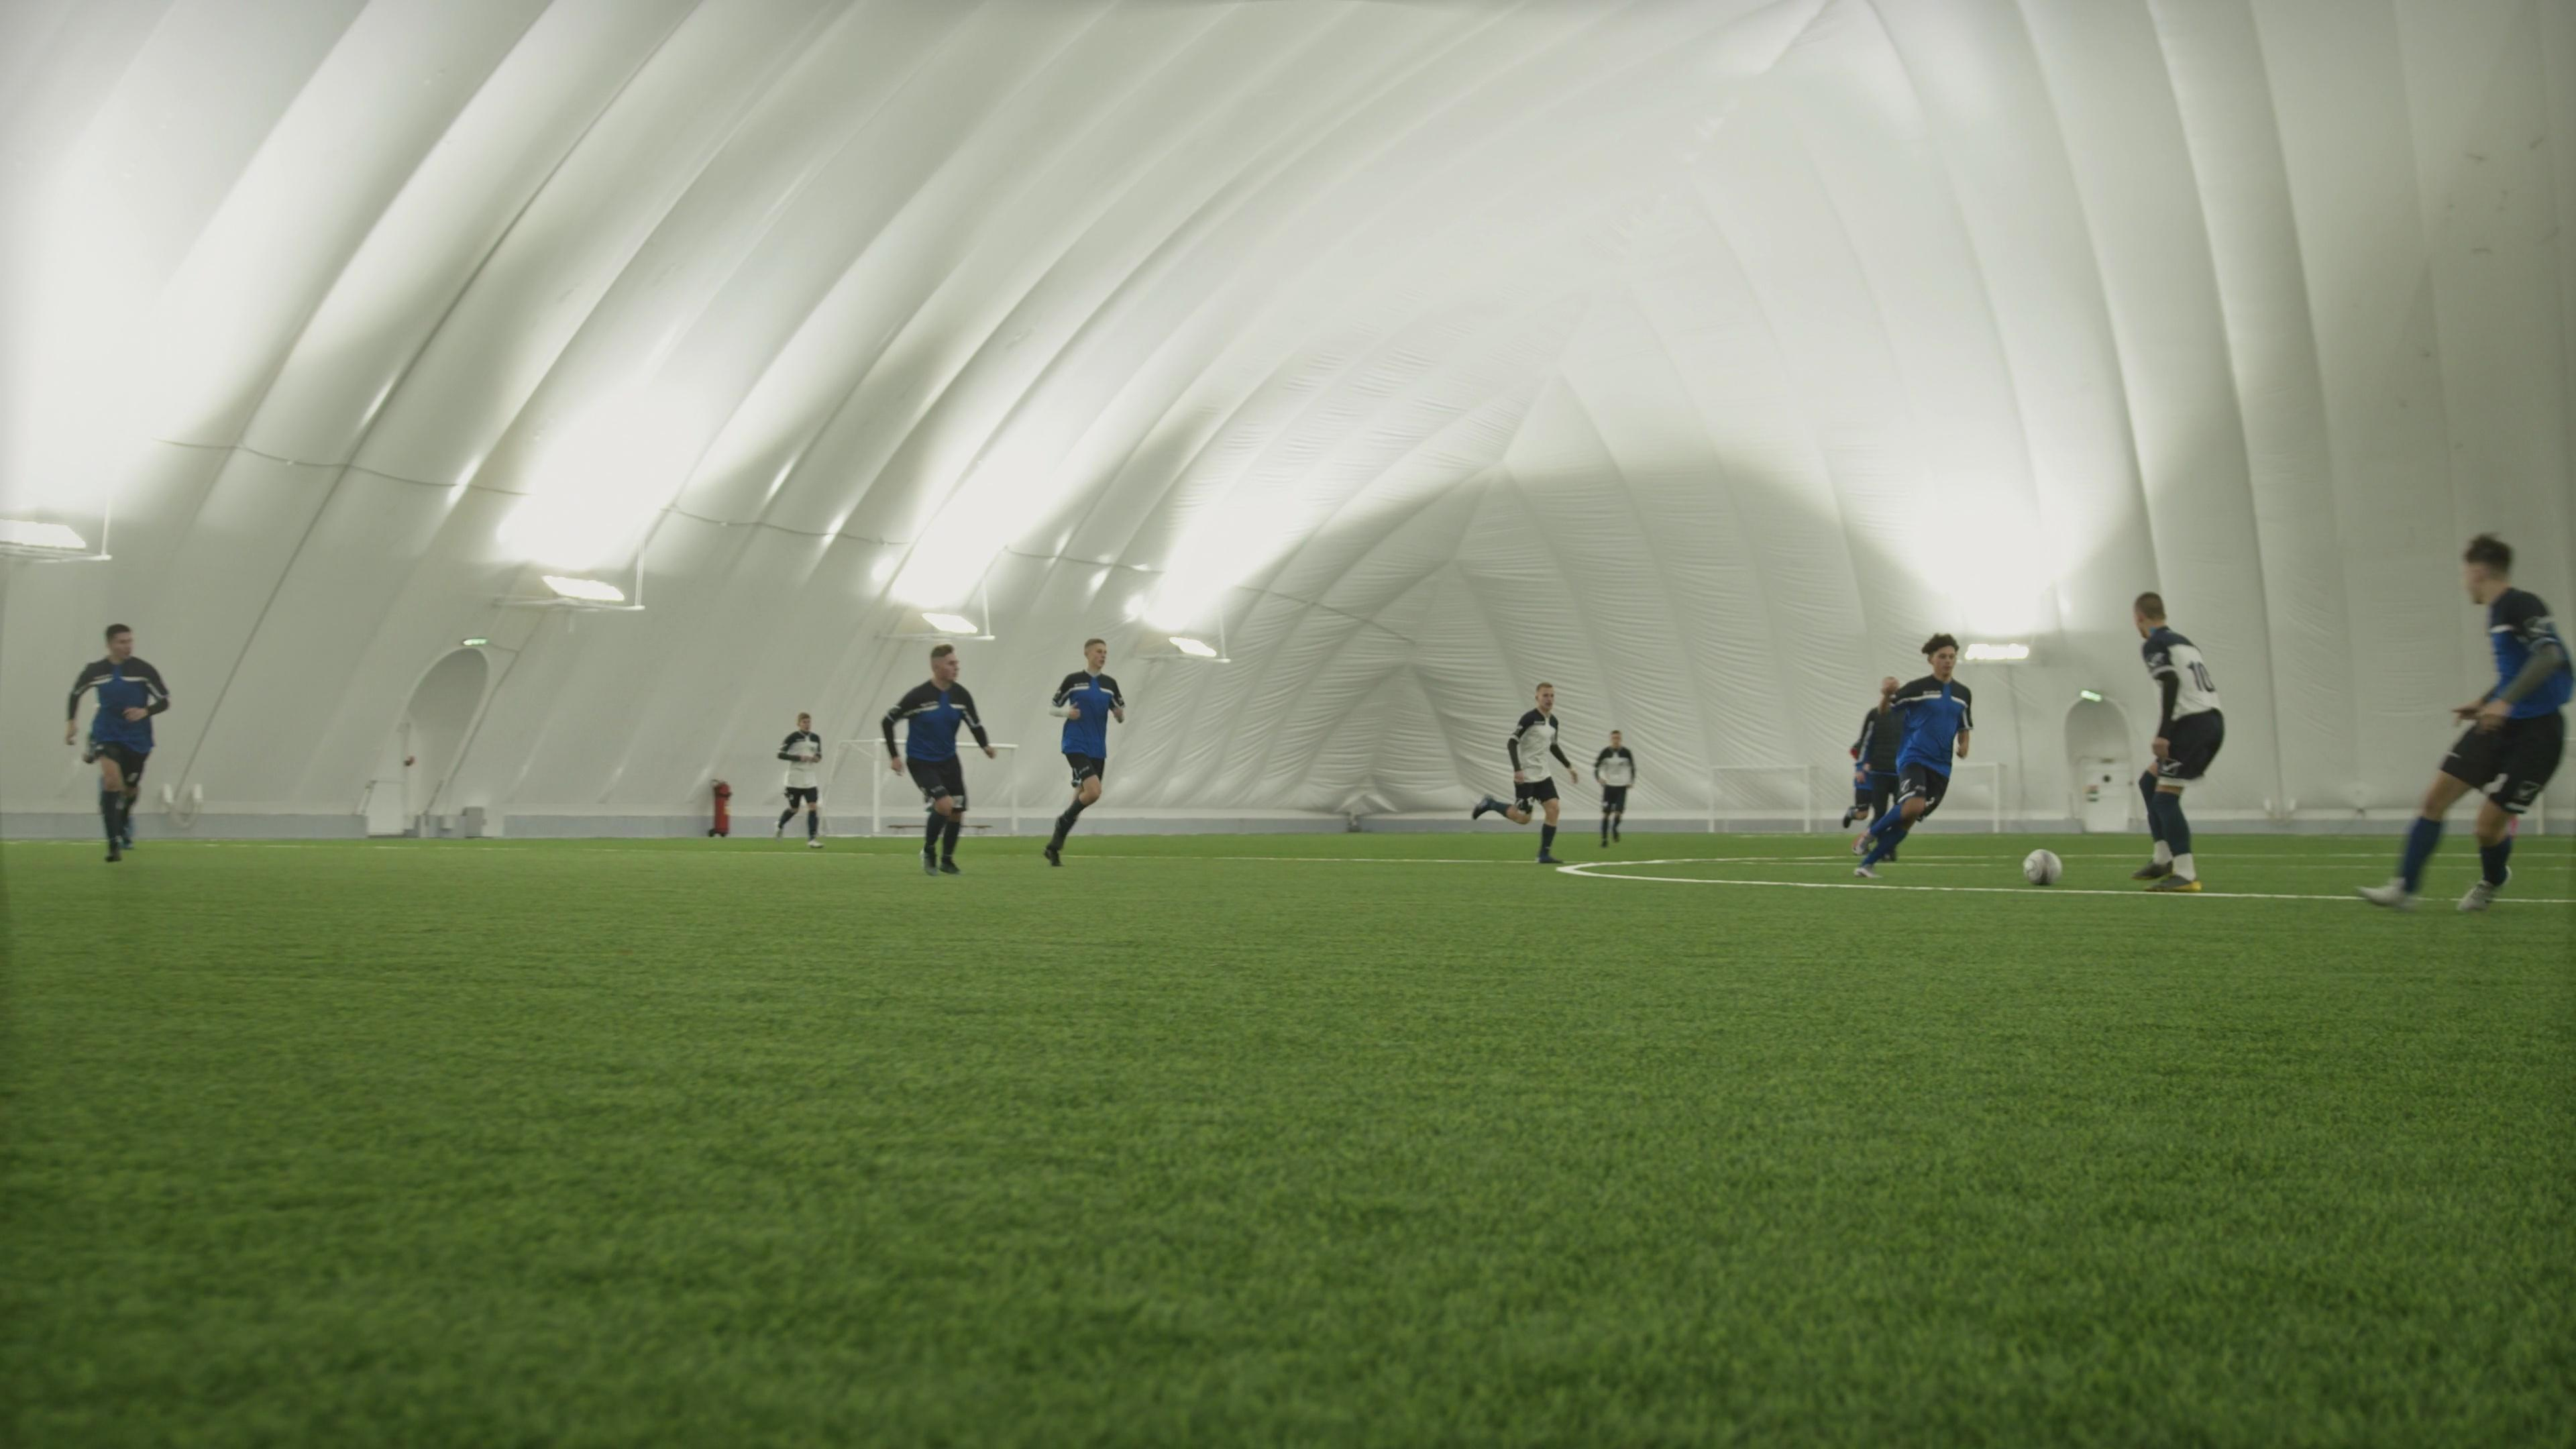other: (1867, 676, 1911, 856)
team1: (2369, 533, 2574, 913), (1849, 635, 1974, 874), (886, 646, 998, 878), (65, 619, 172, 860), (1039, 635, 1125, 867)
team2: (2128, 596, 2226, 892), (1472, 678, 1575, 867), (773, 709, 830, 846), (1587, 729, 1637, 849)
